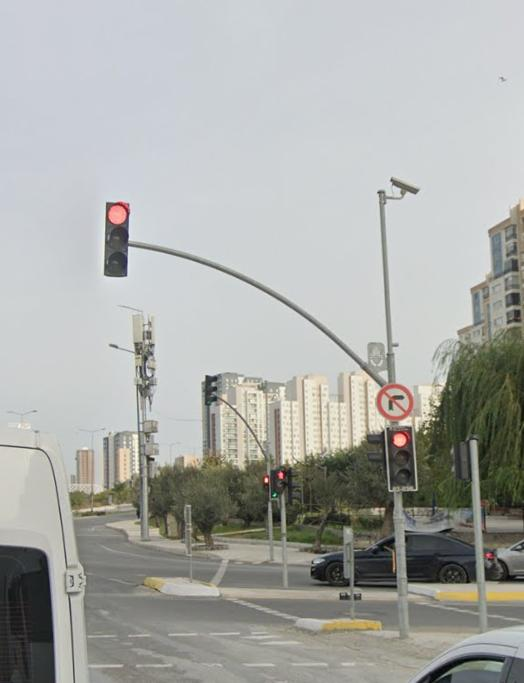redlight: (384, 421, 420, 491), (103, 198, 132, 279)
rightturnsareforbidden: (377, 384, 413, 420)
